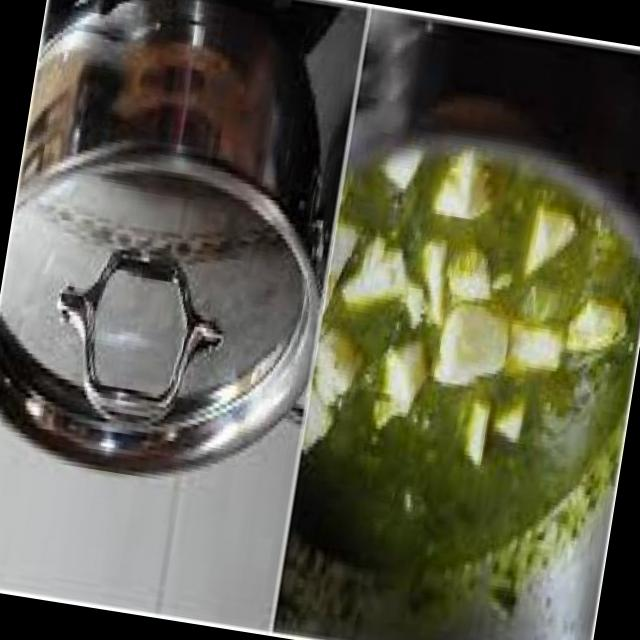palak_paneer: (285, 132, 640, 611)
